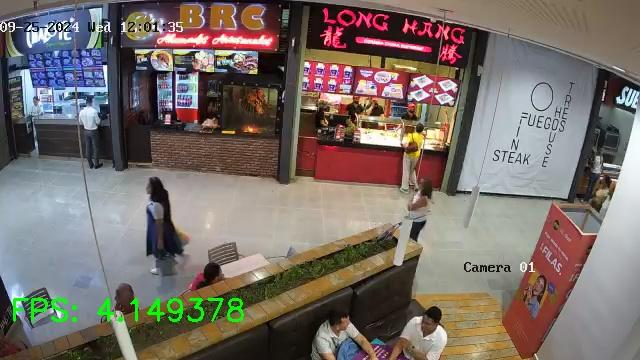fire: (242, 125, 261, 134)
